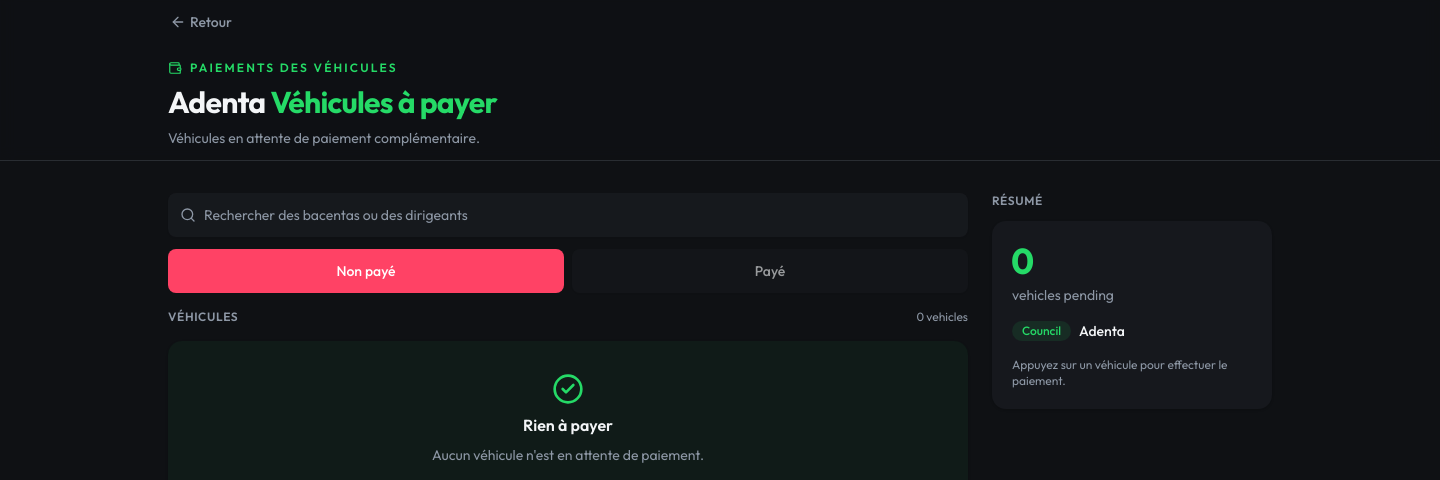
Scenario: StateVehiclesToBePaid › translates both branches
Expected: the text "Paiements des véhicules" is shown, [190,60,398,76]
Expected: the text "Véhicules en attente de paiement complémentaire." is shown, [168,129,480,147]
Click the tab "Payé" at (770, 271), box [572,249,968,293]
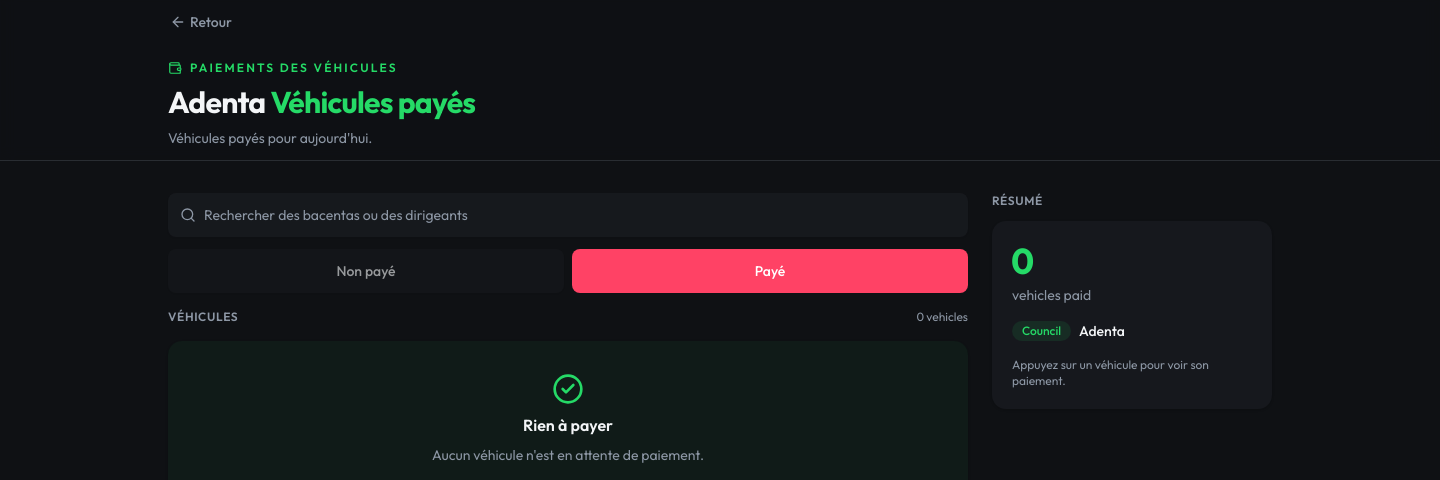
Now the text "Véhicules payés" is shown, box [270,83,475,121]
